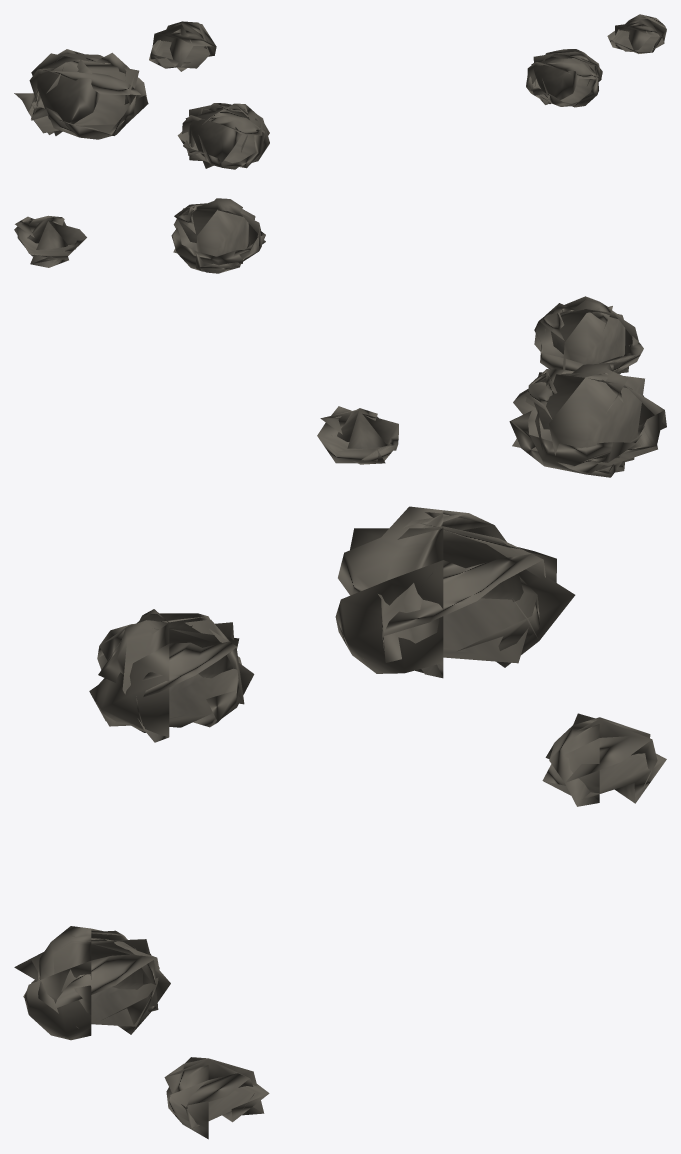
File: rk_v0_stone_set.glb
3 renders of one model, top to bottom at view 1: azimuth 30°, elevation 25°; view 2: azimuth 150°, elevation 25°; view 3: azimuth 270°, elevation 25°, orthographic. The views are drawn at different scales.
Parts seen in each view (by area): view 1: rk_v0_stone_set; view 2: rk_v0_stone_set; view 3: rk_v0_stone_set.
Part boxes in pixels (x1,y1,x2,y2): rk_v0_stone_set: [14, 14, 666, 169]; rk_v0_stone_set: [14, 198, 666, 477]; rk_v0_stone_set: [14, 506, 666, 1139].
Size of the model in its own units: 0.3259 by 0.0384 by 0.1669.
1 material, 1 textured.
